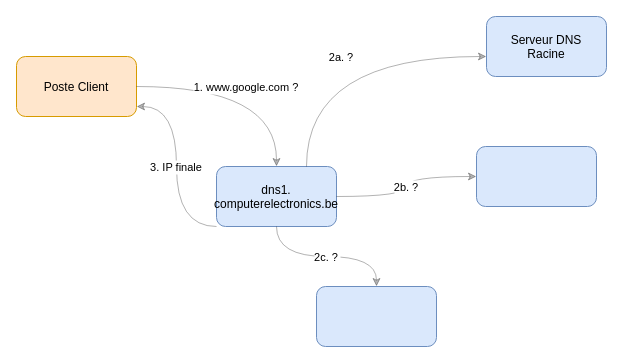
The diagram is 623 pixels wide and 363 high, and some of its shapes have lost their labels. The centre of each missing label's shape, as x and y in pixels:
Serveur DNS .com: point (536, 176)
Serveur DNS google.com: point (376, 316)
